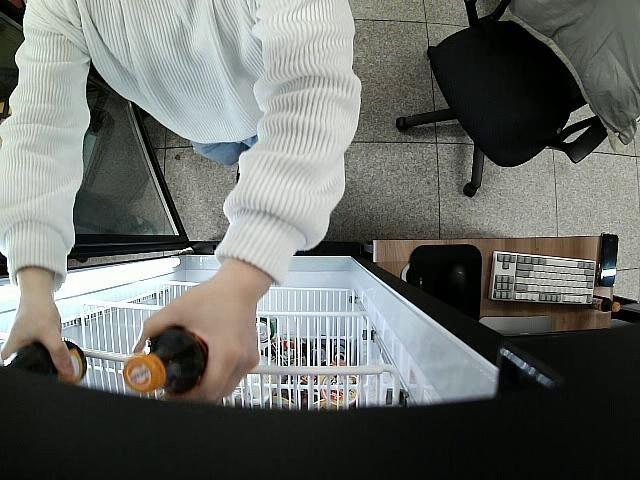17_vita500: (123, 329, 210, 396), (0, 340, 87, 388)
